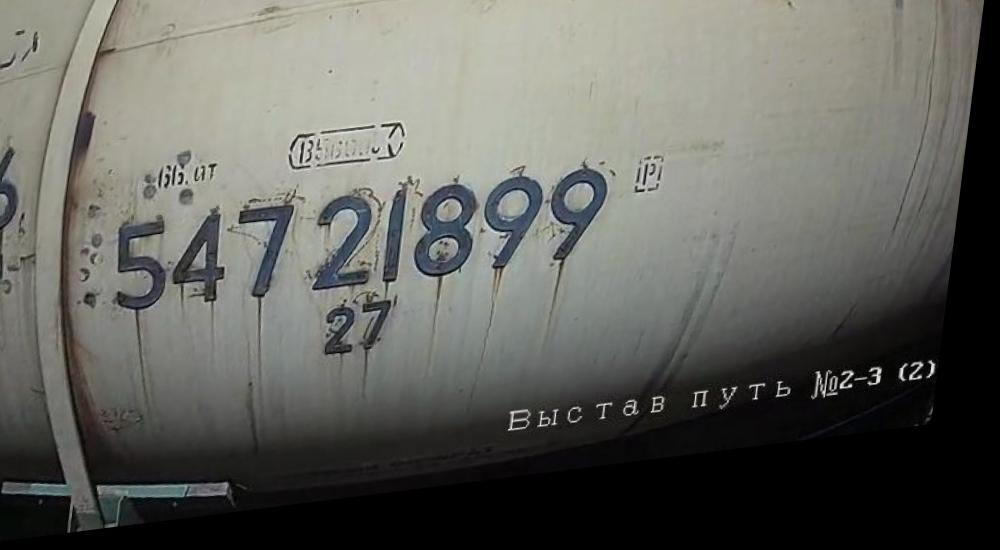Wagon-number: (113, 172, 623, 328)
